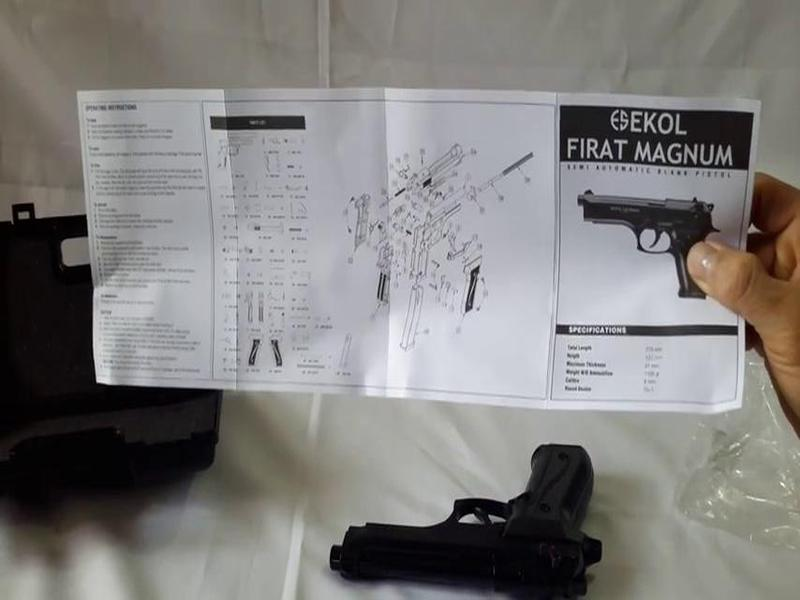Pistola: (317, 417, 608, 600)
